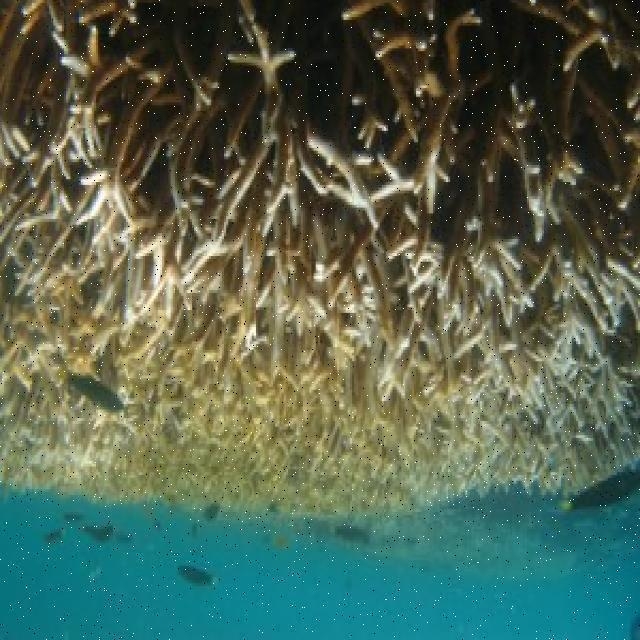Bleached: (1, 1, 640, 519)
